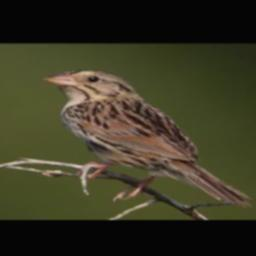Sparrow: (42, 68, 249, 206)
